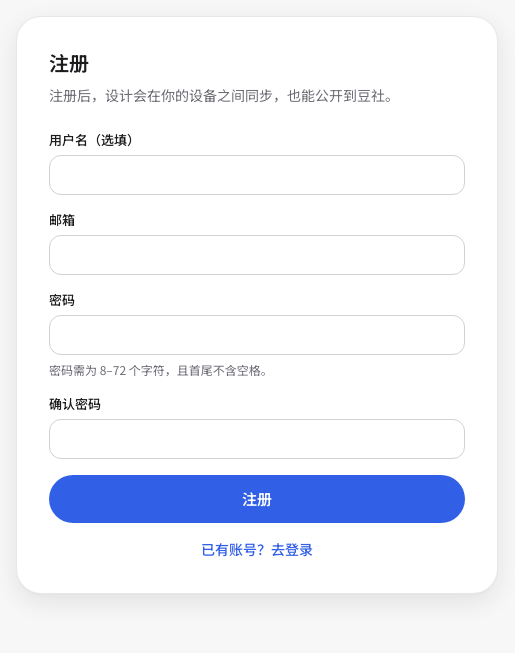
register 页 › 400 字段级错误展示服务端消息
In the field labelled "邮箱": (257, 255) [49,235,465,275], type "a@b.com"
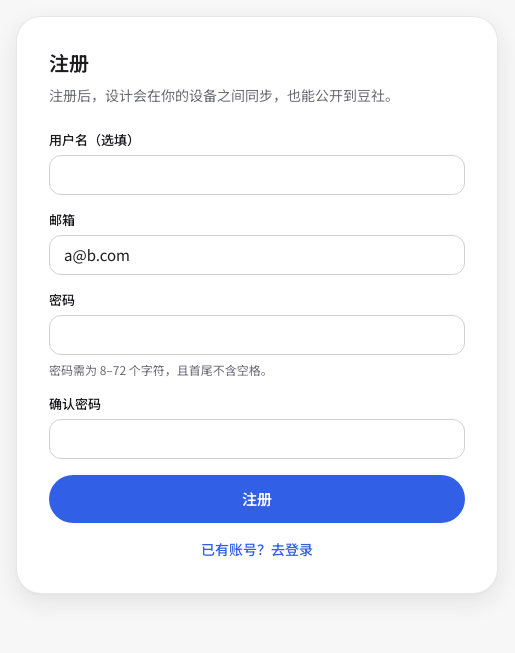
In the password field labelled "密码": (257, 335) [49,315,465,355], type "12345678"
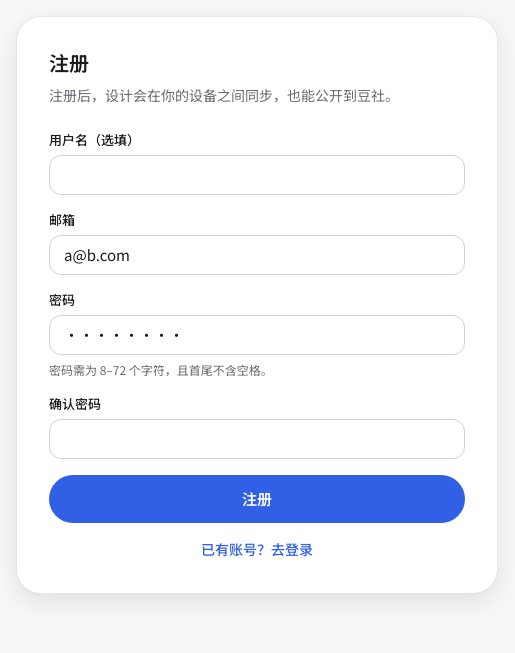
In the password field labelled "确认密码": (257, 439) [49,419,465,459], type "12345678"
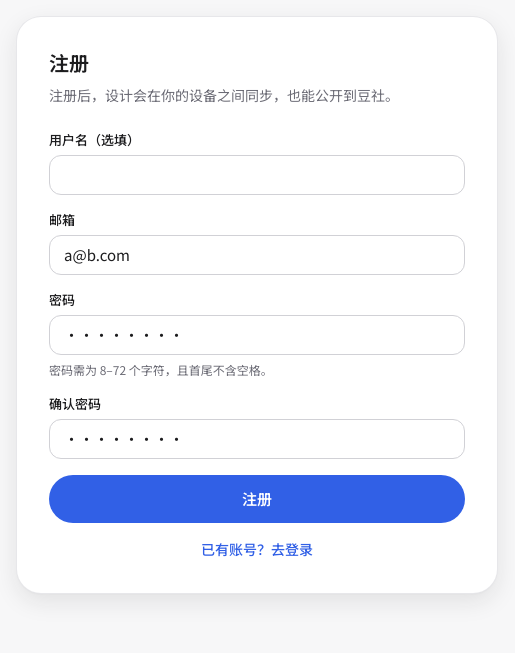
Click the button "注册": (257, 499) [49,475,465,523]
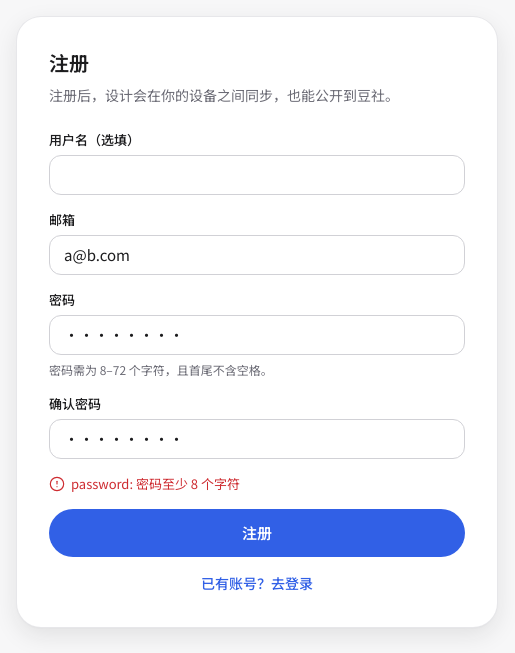
Expected: the message shows "密码至少 8 个字符", [71,476,240,492]
